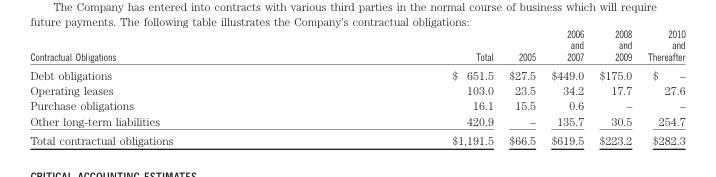table: (29, 28, 684, 146)
table column: (29, 28, 311, 146), (311, 28, 500, 146), (542, 28, 590, 146), (590, 28, 638, 146), (638, 28, 684, 146), (500, 28, 542, 146)
table column header: (29, 28, 684, 65)
table row: (29, 28, 684, 65), (29, 112, 684, 130), (29, 65, 684, 82), (29, 130, 684, 146), (29, 82, 684, 97), (29, 97, 684, 112)
